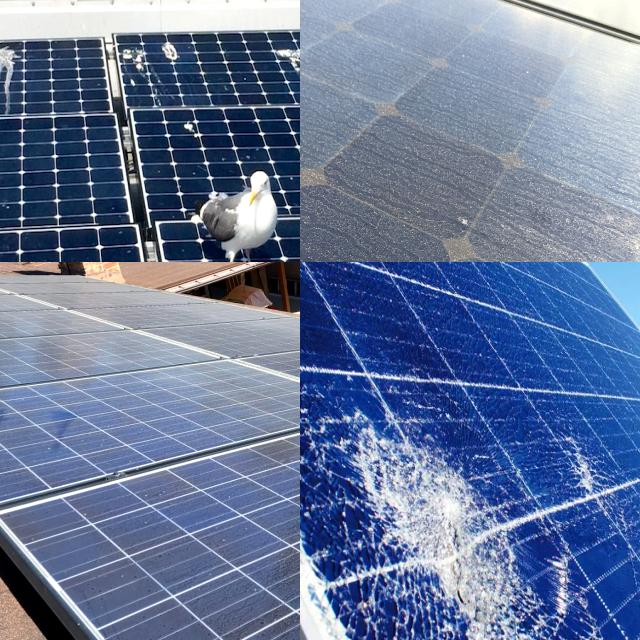bird: (116, 37, 154, 106), (0, 44, 35, 110), (157, 31, 206, 78), (272, 39, 300, 86), (172, 114, 204, 144)
dust: (300, 0, 466, 188), (139, 478, 300, 634), (491, 104, 618, 224), (300, 0, 359, 255), (0, 395, 254, 435), (300, 186, 407, 262)
hotspot: (342, 406, 530, 640), (565, 421, 627, 527)
